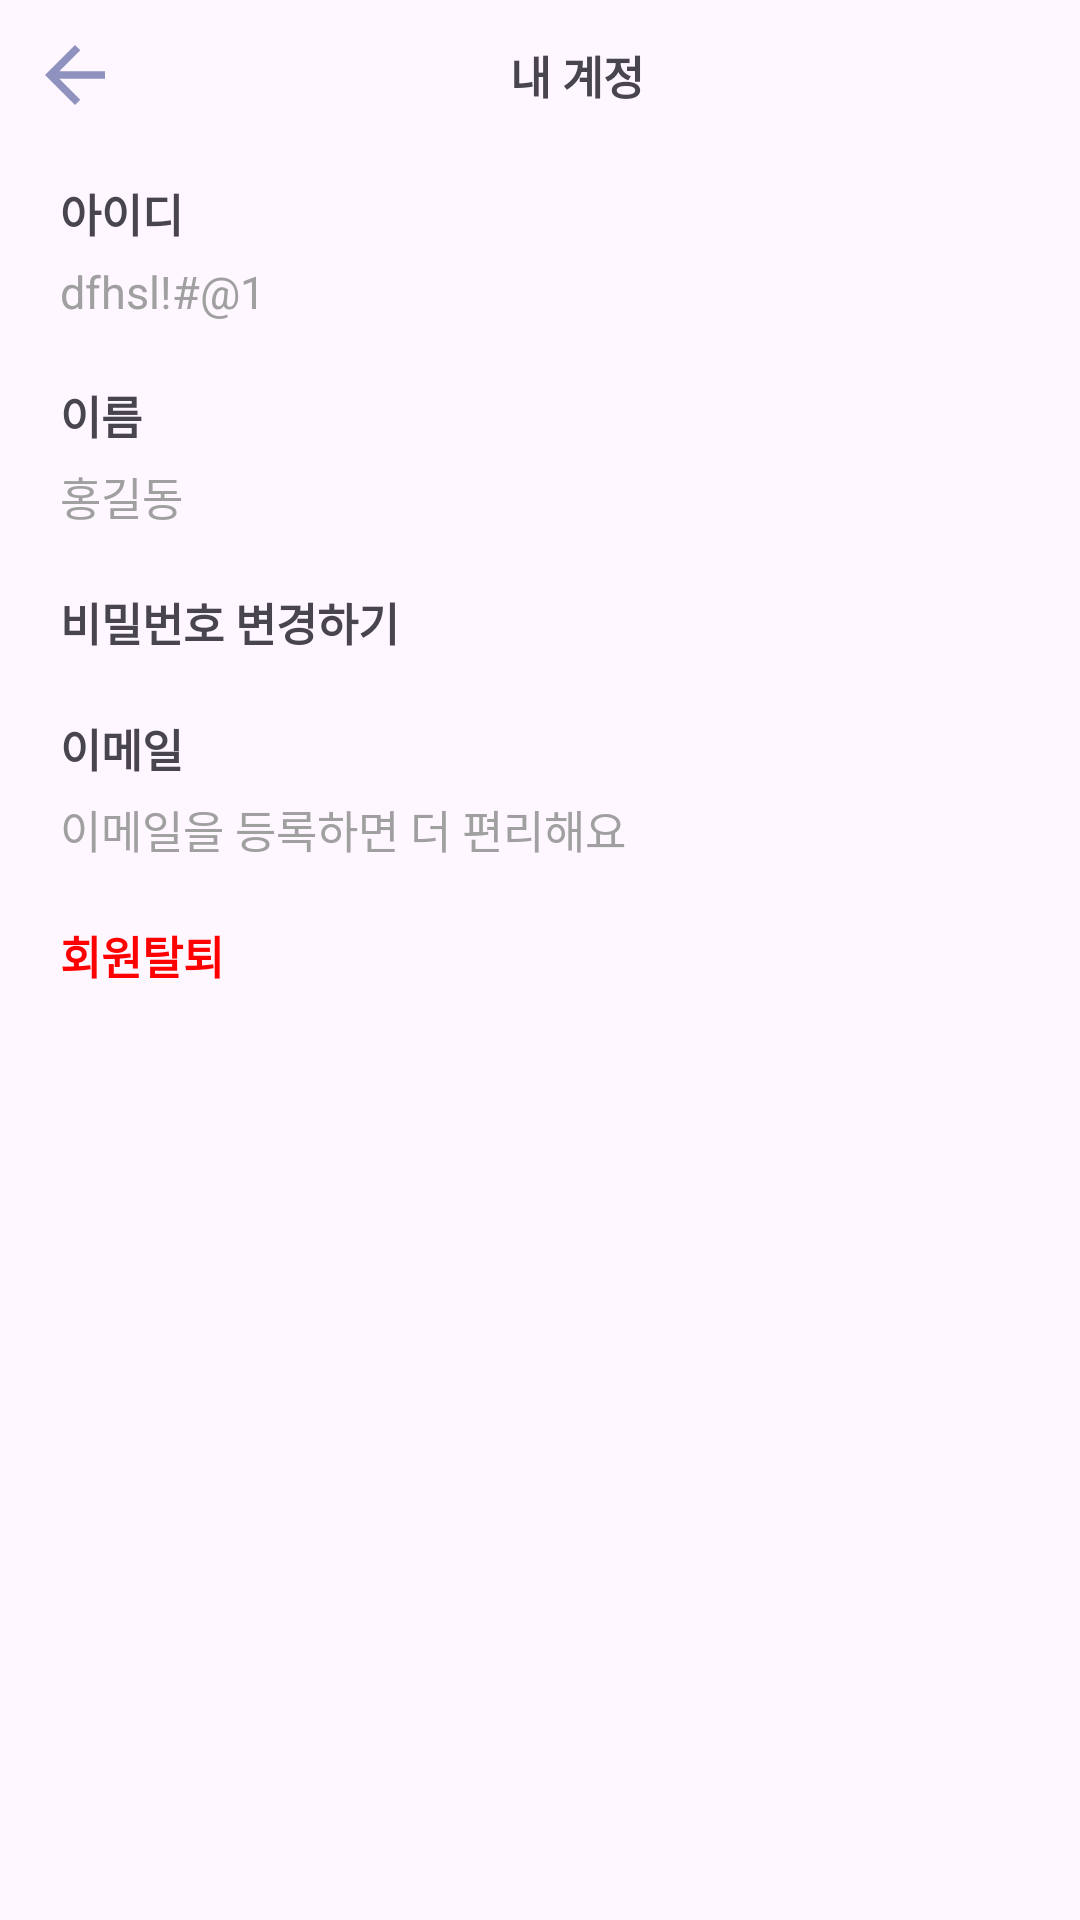

Icon bounding boxes for this 1080×1920 phone screenshot, format (left=x1, top=y1, right=x2, bottom=y2):
back: (left=45, top=45, right=105, bottom=105)
